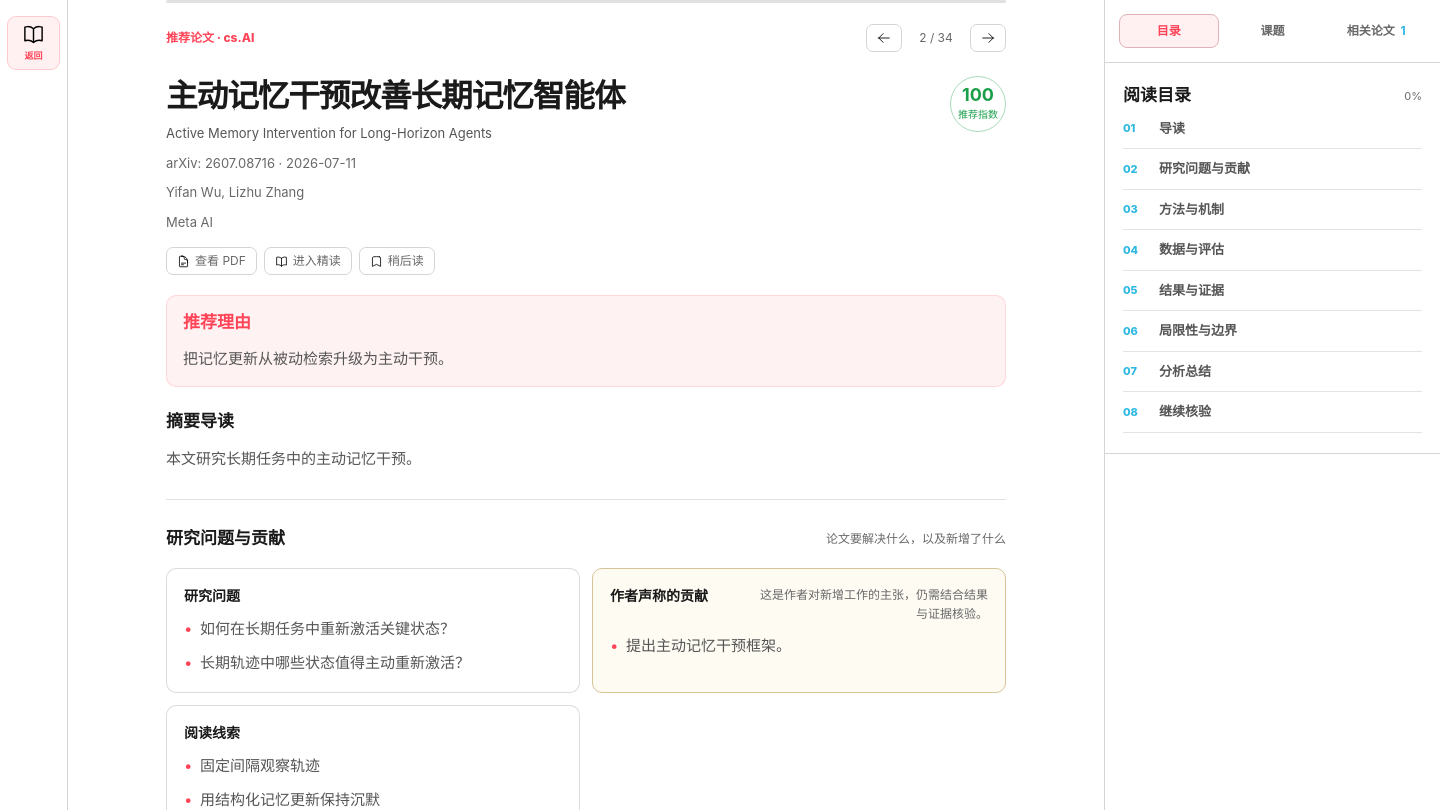
it: ImmersivePaperReader › renders the focused reading document with evidence and real related context
Expected: the element with class "immersive-reader__group" shows "长期轨迹中哪些状态值得主动重新激活？", [200,653,470,672]
Expected: the element with class "immersive-reader__group" does not show "提出主动记忆干预框架。"
Click the tab "相关论文 1" at (1376, 31), box [1326,14,1426,48]
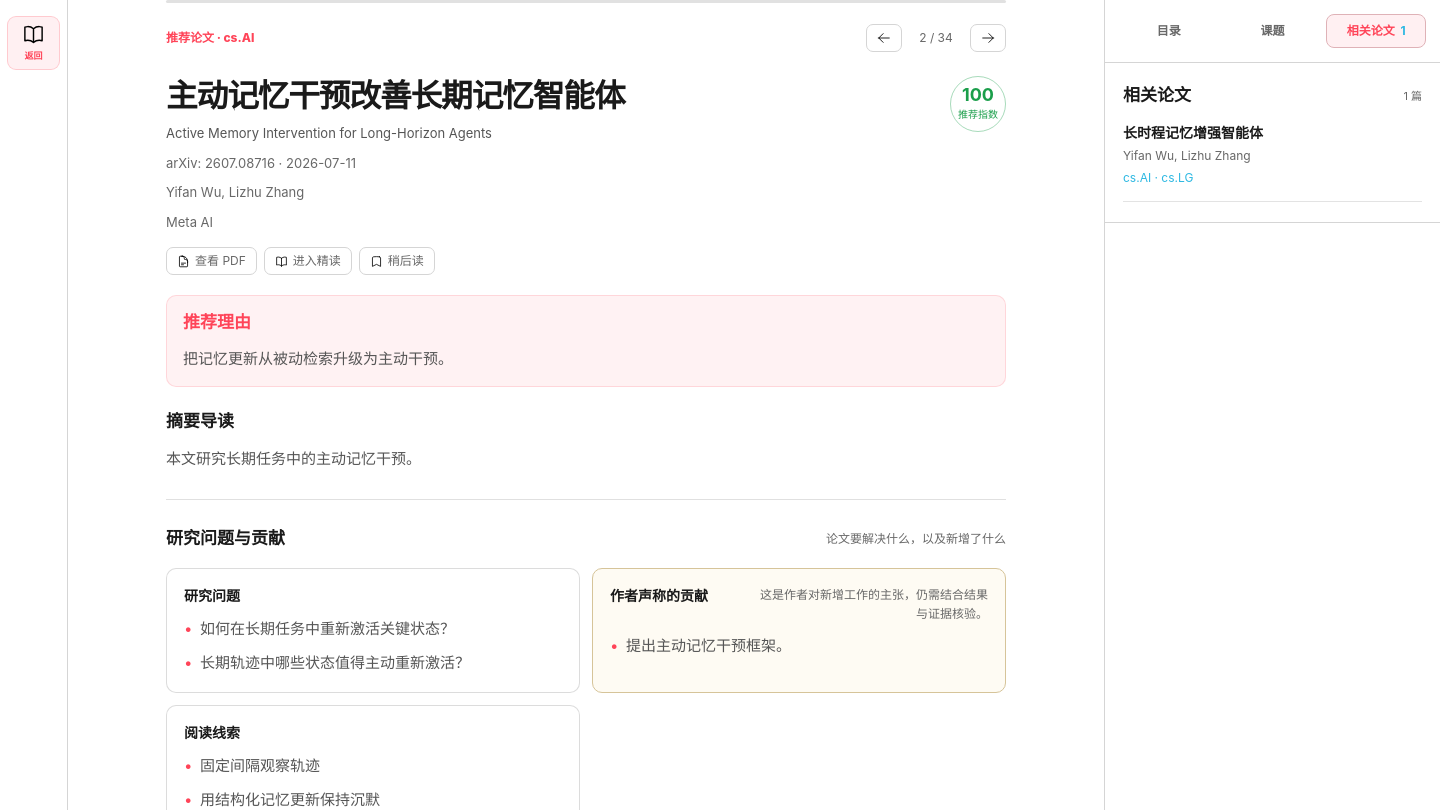
Expected: the text "长时程记忆增强智能体" is shown, [1123,124,1263,140]
